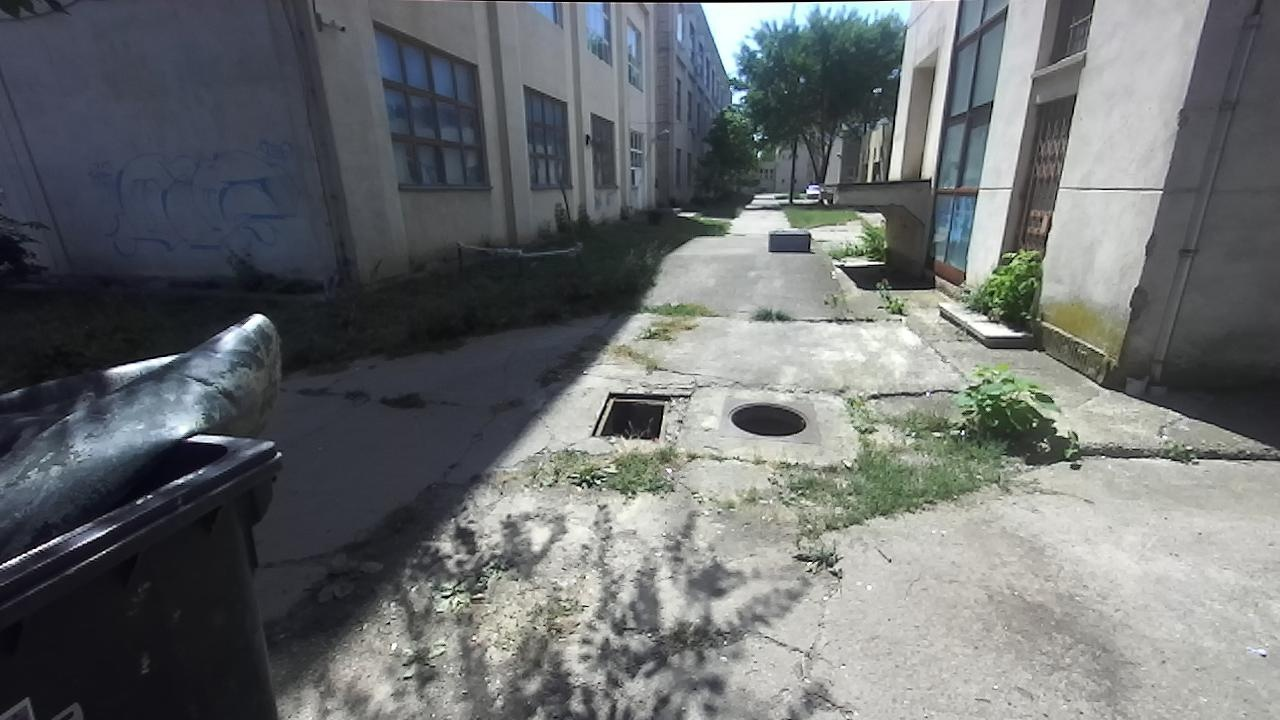drain: (587, 393, 688, 442), (722, 400, 811, 435)
